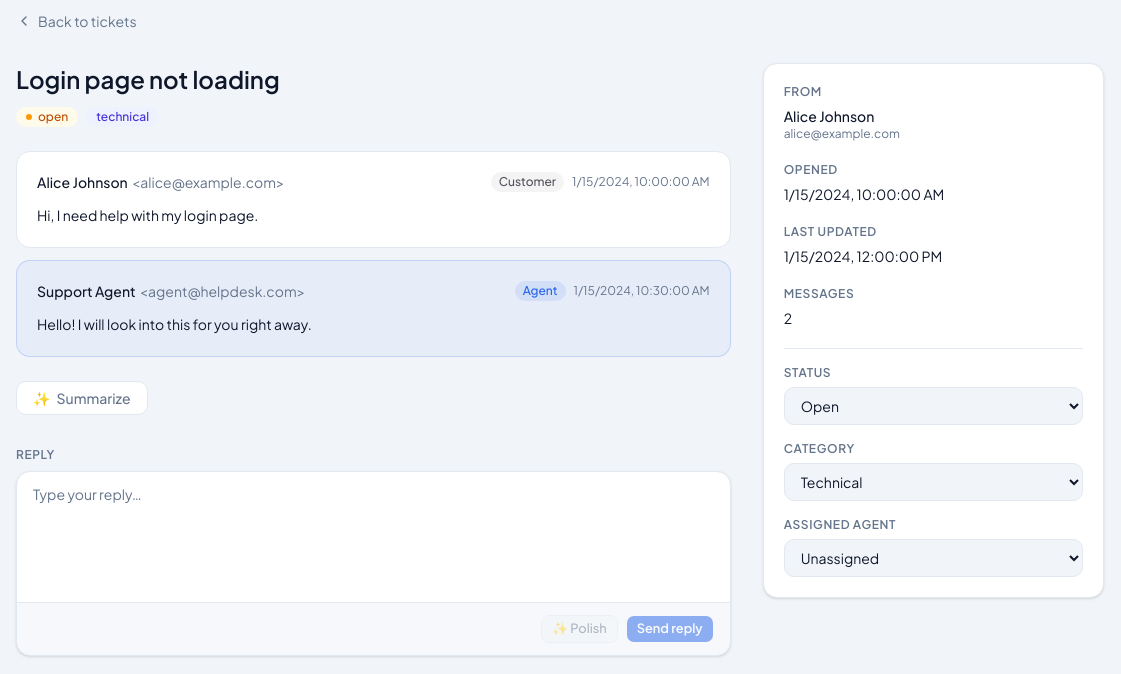
Test: TicketDetailPage › shows an error when the category update fails
Expected: the heading "Login page not loading" is shown, [16, 64, 280, 94]
Select "General" in the dropdown below "Category" at (933, 482), box [784, 463, 1083, 501]
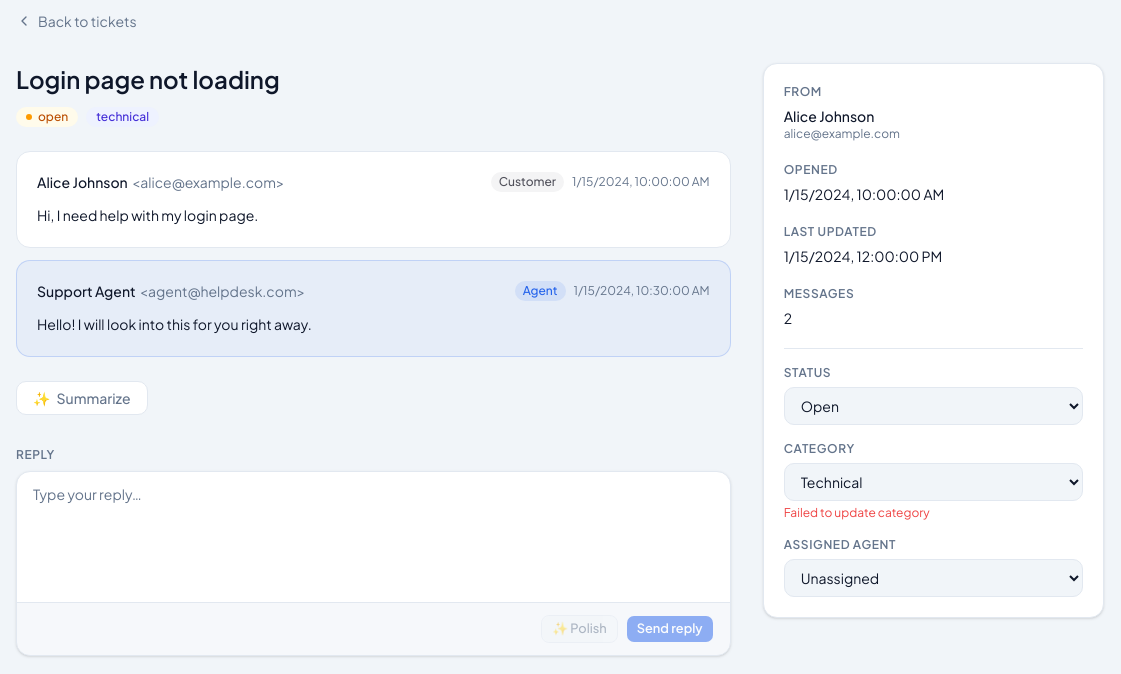
Expected: the text "Failed to update category" is shown, [784, 505, 930, 520]
